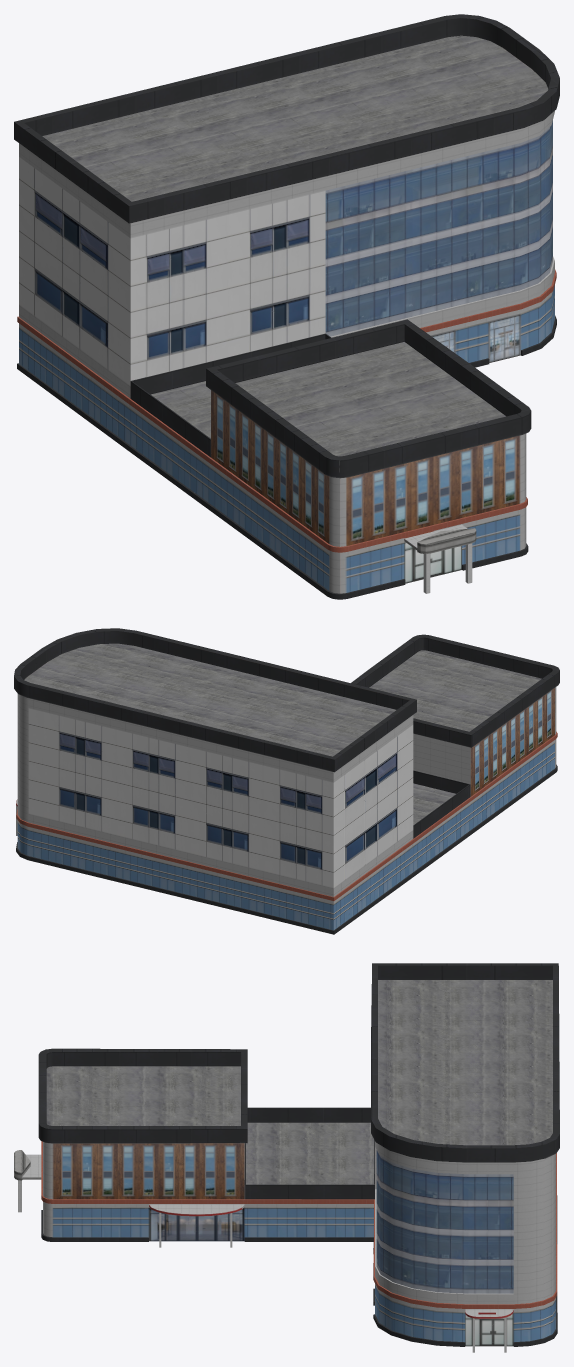
Rendered from office.glb.
The picture shows the model from 3 angles, top to bottom: view 1: azimuth 30°, elevation 25°; view 2: azimuth 150°, elevation 25°; view 3: azimuth 270°, elevation 25°; orthographic projection. The views are drawn at different scales.
Visible parts, largest first — view 1: Cube.002; view 2: Cube.002; view 3: Cube.002.
Part boxes in pixels (bbox=[...]): Cube.002: bbox=[14, 14, 559, 599]; Cube.002: bbox=[14, 628, 559, 934]; Cube.002: bbox=[14, 963, 559, 1352].
Size of the model in its own units: 57.29 by 27.92 by 69.02.
Materials: 1 (1 with a texture image).
